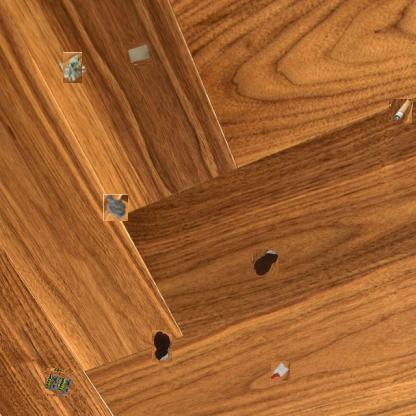dirty: (46, 369, 72, 395), (103, 194, 128, 221), (60, 55, 85, 81), (127, 43, 149, 65), (390, 100, 412, 122), (271, 362, 291, 382)
liquid: (251, 249, 279, 277), (152, 330, 172, 362)
